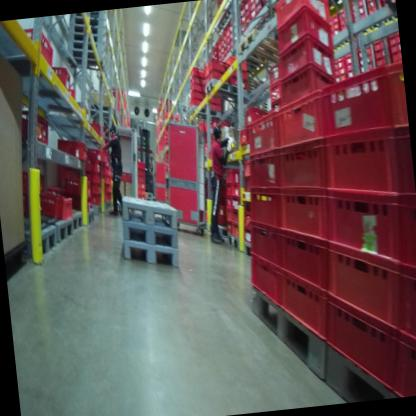pallet: (244, 277, 330, 384), (321, 343, 395, 402), (118, 188, 181, 236), (119, 214, 181, 261), (14, 212, 66, 268), (235, 21, 286, 78), (122, 232, 182, 279), (200, 74, 247, 105), (67, 16, 109, 47), (65, 45, 106, 76), (40, 208, 72, 242), (223, 229, 257, 260), (188, 100, 224, 129), (68, 37, 105, 65), (66, 28, 105, 53), (66, 201, 86, 234), (204, 221, 230, 243), (71, 12, 105, 25), (85, 199, 107, 219), (85, 209, 94, 230)
small_load_carrier: (315, 283, 406, 402), (317, 230, 405, 323), (321, 186, 394, 273), (322, 129, 396, 206), (320, 58, 391, 138), (272, 218, 331, 305), (271, 81, 329, 152), (274, 182, 337, 245), (273, 0, 335, 63), (278, 264, 332, 335), (275, 133, 334, 194), (274, 32, 336, 85), (386, 248, 416, 348), (244, 212, 284, 282), (277, 62, 336, 108), (245, 246, 288, 307), (384, 194, 416, 273), (243, 180, 287, 232), (243, 144, 283, 200), (23, 23, 58, 83), (241, 107, 281, 159), (386, 324, 416, 393), (386, 124, 414, 196), (380, 60, 407, 126), (275, 0, 332, 28), (15, 102, 48, 150), (50, 171, 95, 206), (13, 163, 48, 197), (42, 188, 75, 223), (55, 135, 89, 162), (202, 55, 231, 81), (49, 58, 71, 91), (86, 143, 110, 167), (203, 67, 232, 86), (265, 76, 285, 102), (266, 62, 284, 88), (187, 62, 207, 84), (85, 155, 102, 174), (189, 72, 205, 89), (230, 193, 244, 211), (189, 93, 206, 106), (232, 167, 244, 185), (90, 180, 103, 196), (188, 84, 206, 95), (232, 212, 245, 227), (221, 195, 233, 211), (224, 208, 234, 227), (223, 168, 234, 183), (91, 172, 103, 185), (230, 181, 240, 194), (224, 183, 231, 199)
